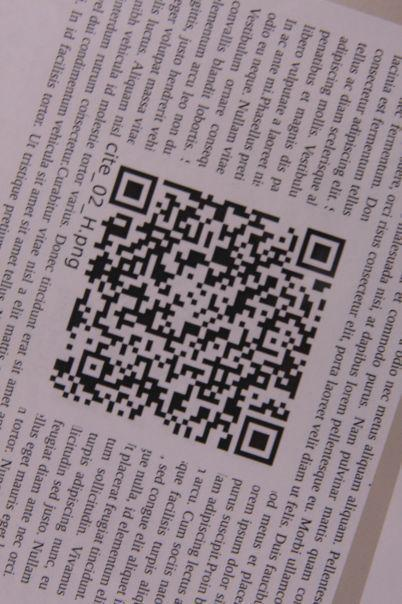qr_code: (48, 165, 348, 467)
